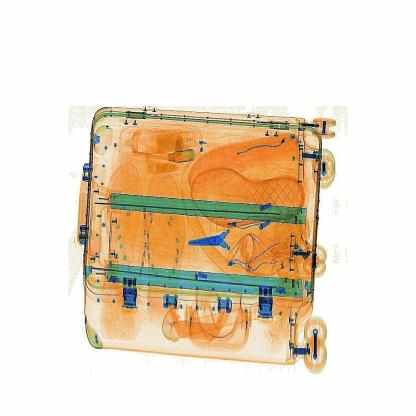gun: (181, 214, 249, 270)
